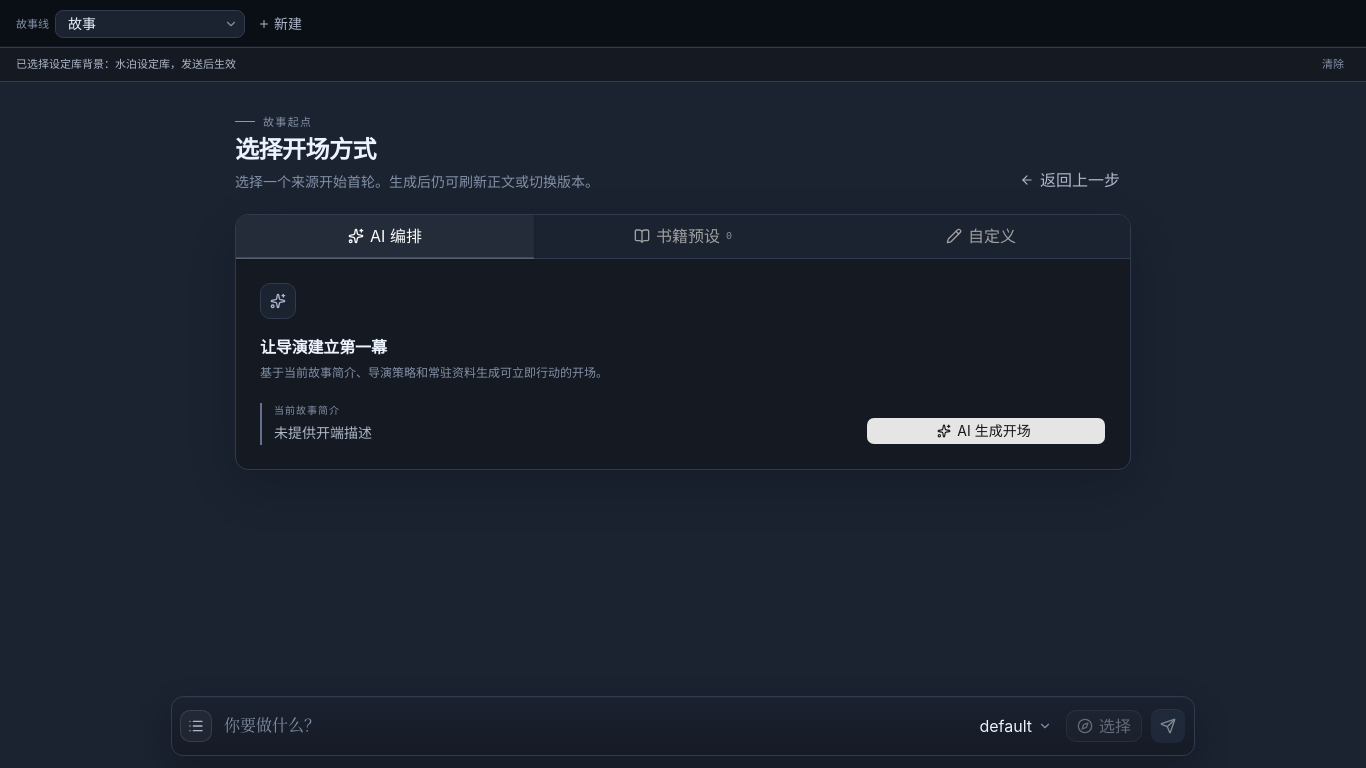
Test: Phase 3.2-B3b Library handoff › renders the server-driven none status without claiming library usage
Type "查看水泊" into the field at [593, 726], box [224, 714, 961, 738]
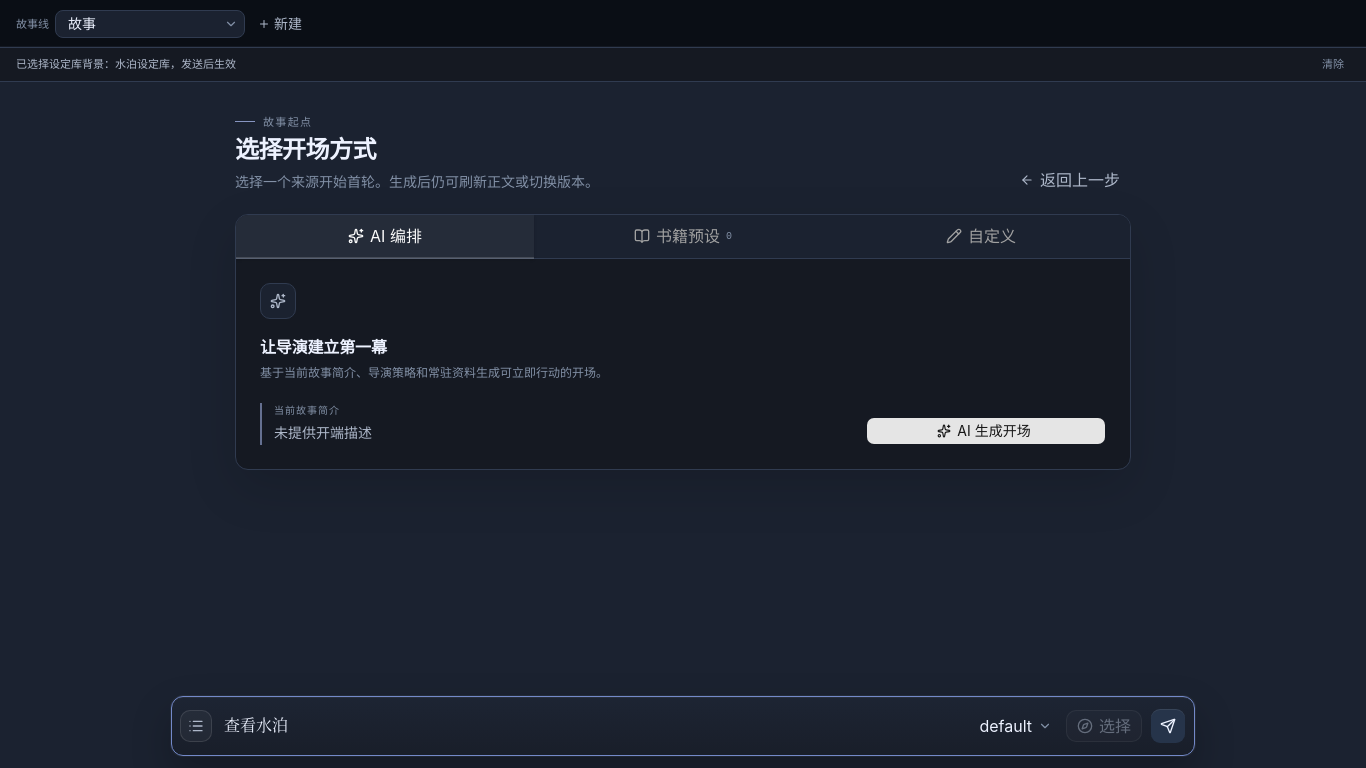
Click the button named "发送" at [1168, 726], box [1150, 708, 1186, 744]
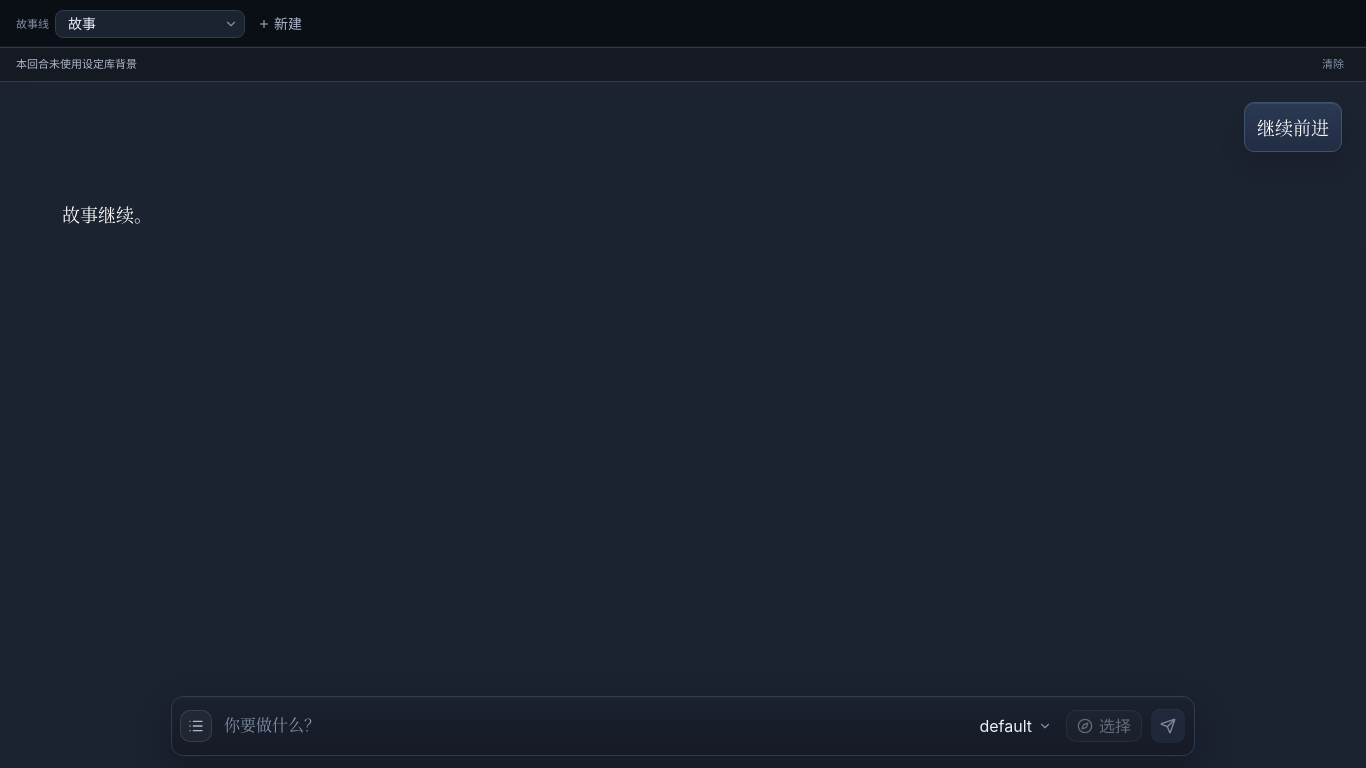
Check: the element with test id "story-stage-library-context-status" is shown, box [0, 48, 1365, 82]
Check: the element with test id "story-stage-library-context-status" shows "本回合未使用设定库背景", box [16, 57, 137, 71]
